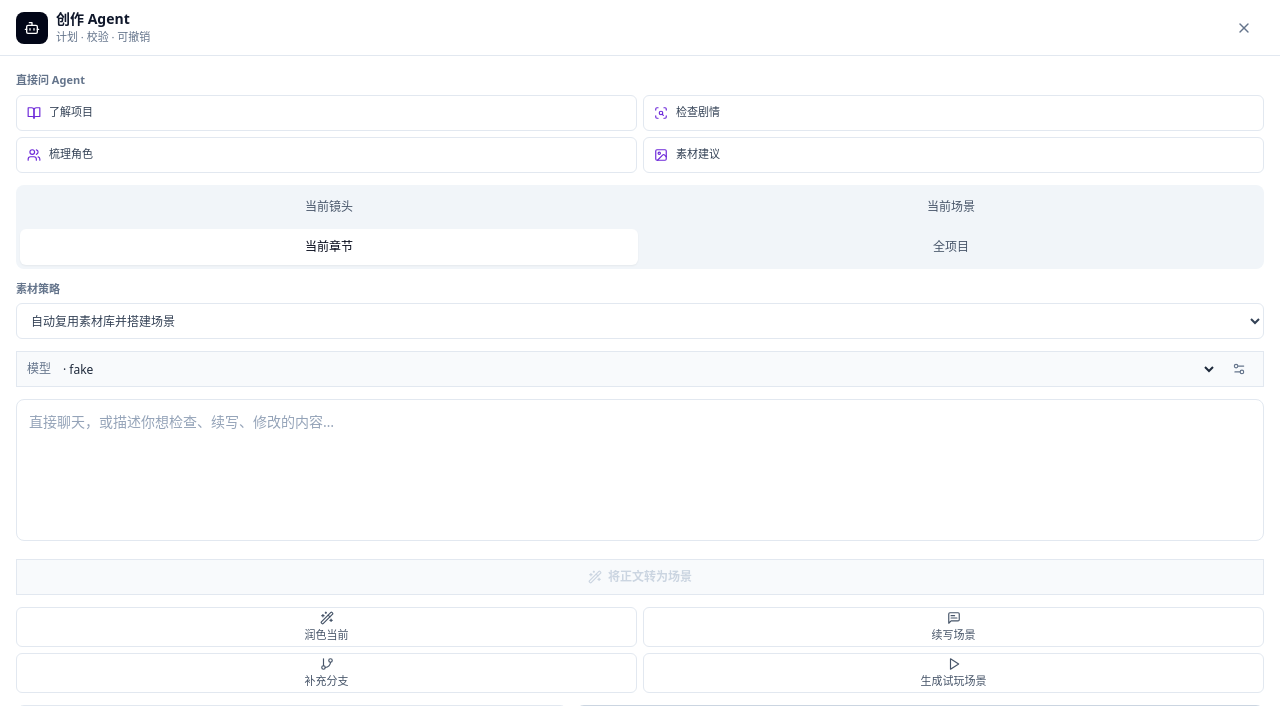
Test: AgentPanel › fills a project-aware starter without submitting it immediately
Step 1. Click the button "了解项目" → click(71, 112), box [16, 94, 637, 130]
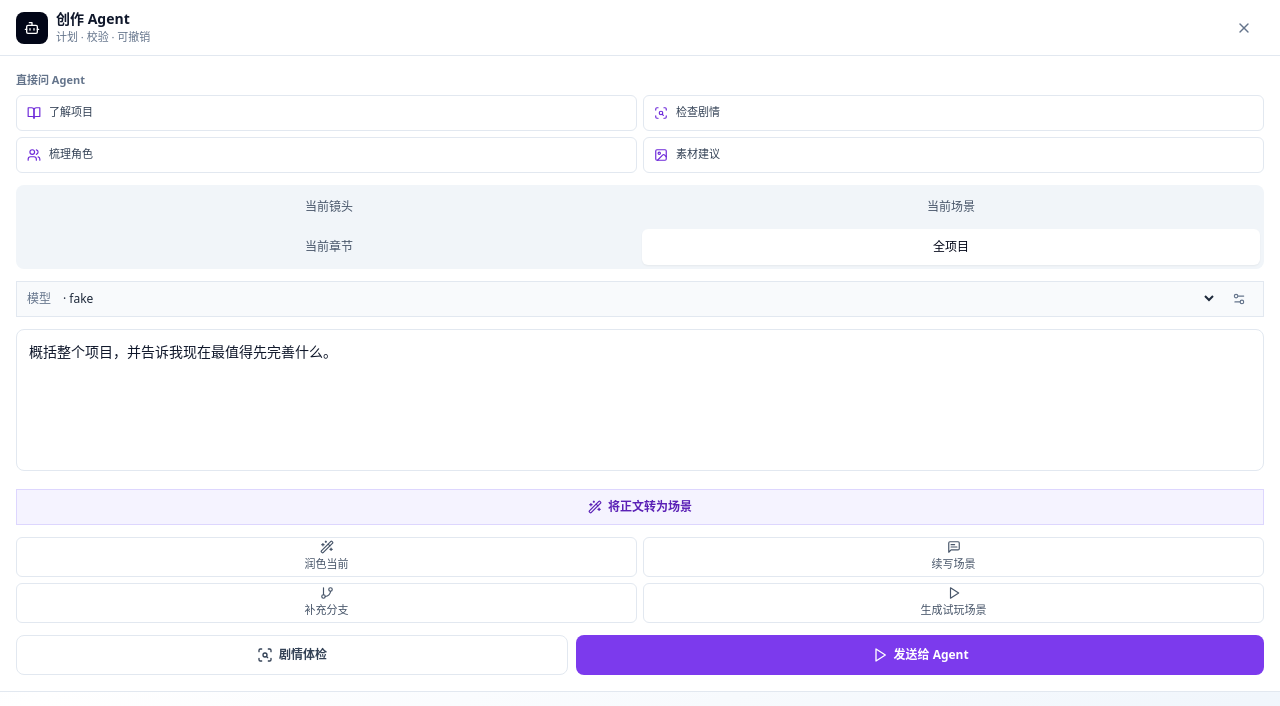
Expected: the text box named "创作任务" holds "概括整个项目，并告诉我现在最值得先完善什么。", [16, 328, 1264, 470]
